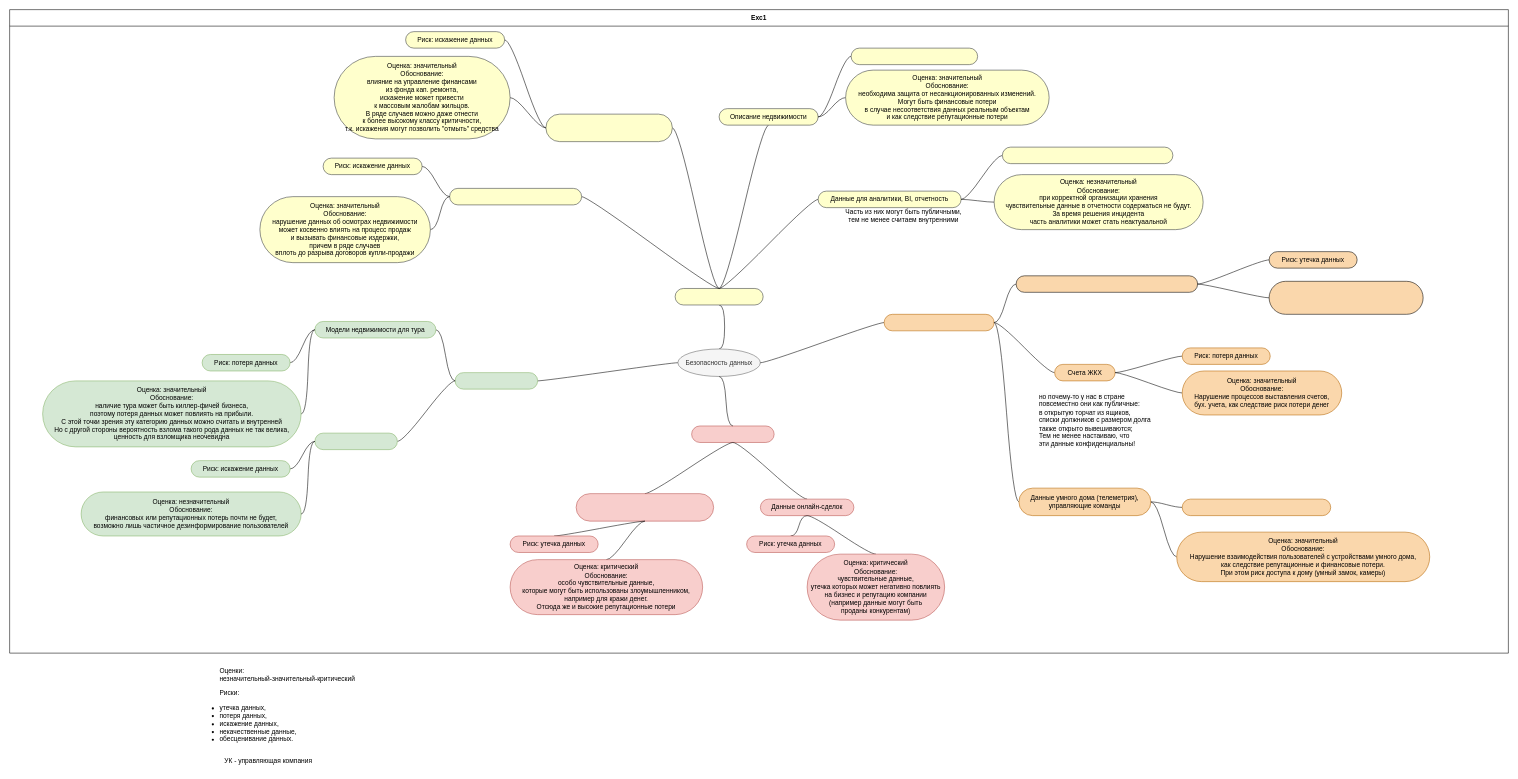
Image size: 1518x779. Some labels were removed from this diagram. Each missing label, with the centre of its shape:
Внутренние данные: point 719,296
Данные о работах по капремонту: запланированные и история: point 608,128
Информация от УК: point 355,441
Конфиденциальные данные: point 939,322
Оценка: критический Обоснование: нарушение требований законодательства: point 1346,297
Публичные данные: point 496,380
Расширенные данные пользователей для сделок: point 645,507
Результаты осмотра недвижимости: point 515,196
Риск: искажения данных, утечка данных: point 1256,507
Риск: искажения, потеря данных: point 914,56
Риск: некачественные данные, обесценивание: point 1087,155
Секретные данные: point 732,433
ФИО, телефон и электронная почта пользователей: point 1107,283
